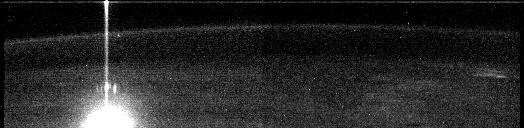positive: (93, 80, 120, 96)
